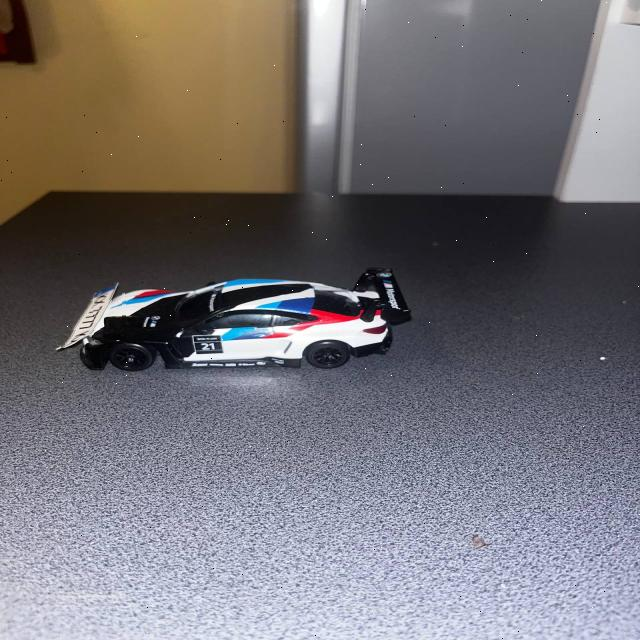KX 7777 KX: (62, 281, 125, 348)
